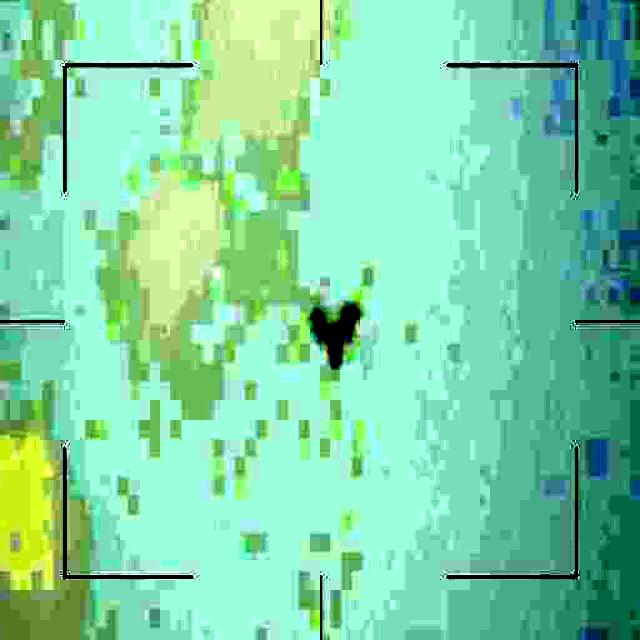bird: (311, 284, 365, 369)
